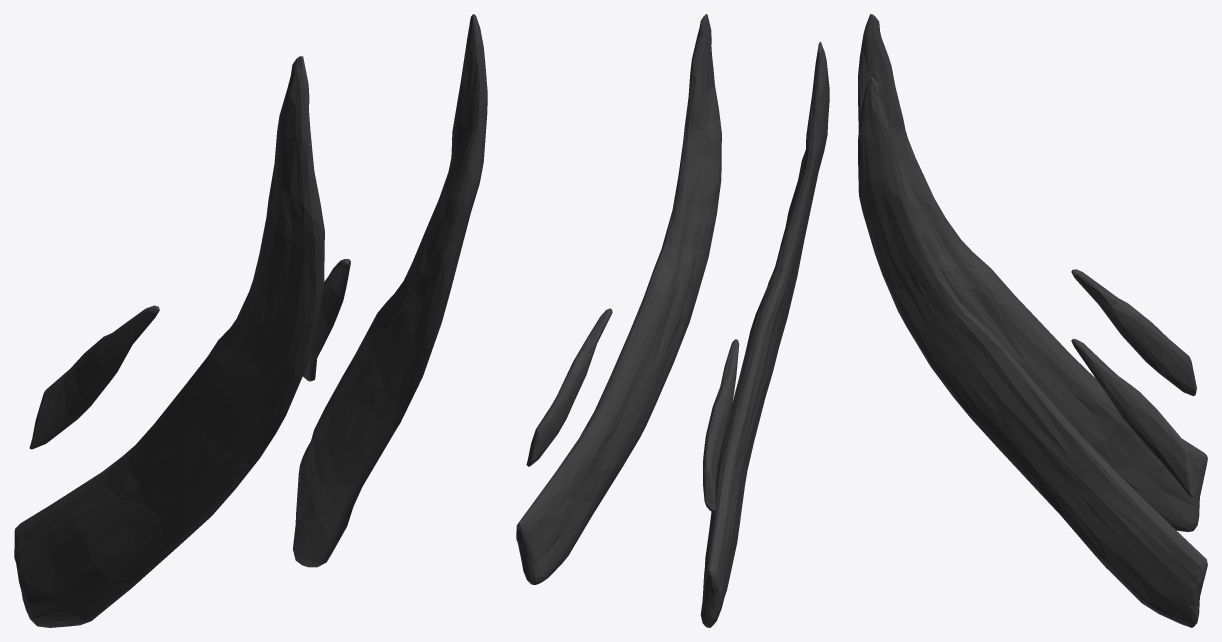
The model's file is m_scalenus.glb.
3 views of the same model, side by side, from view 1: azimuth 30°, elevation 25°; view 2: azimuth 150°, elevation 25°; view 3: azimuth 270°, elevation 25° (orthographic). The views are drawn at different scales.
Visible parts, largest first — view 1: m_scalenus; view 2: m_scalenus; view 3: m_scalenus.
Part boxes in pixels (left/top/right/bottom): m_scalenus: left=14, top=14, right=487, bottom=627; m_scalenus: left=516, top=14, right=829, bottom=627; m_scalenus: left=858, top=14, right=1207, bottom=627.
Size of the model in its own units: 0.00282 by 0.00631 by 0.00375.
Materials: 1 (1 with a texture image).
